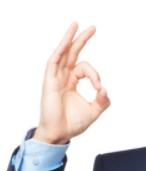left: (39, 20, 112, 140)
